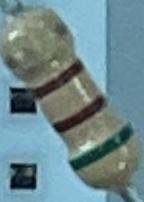Brown: (50, 93, 109, 134), (33, 58, 86, 103)
Side-Silver: (4, 20, 75, 68)
